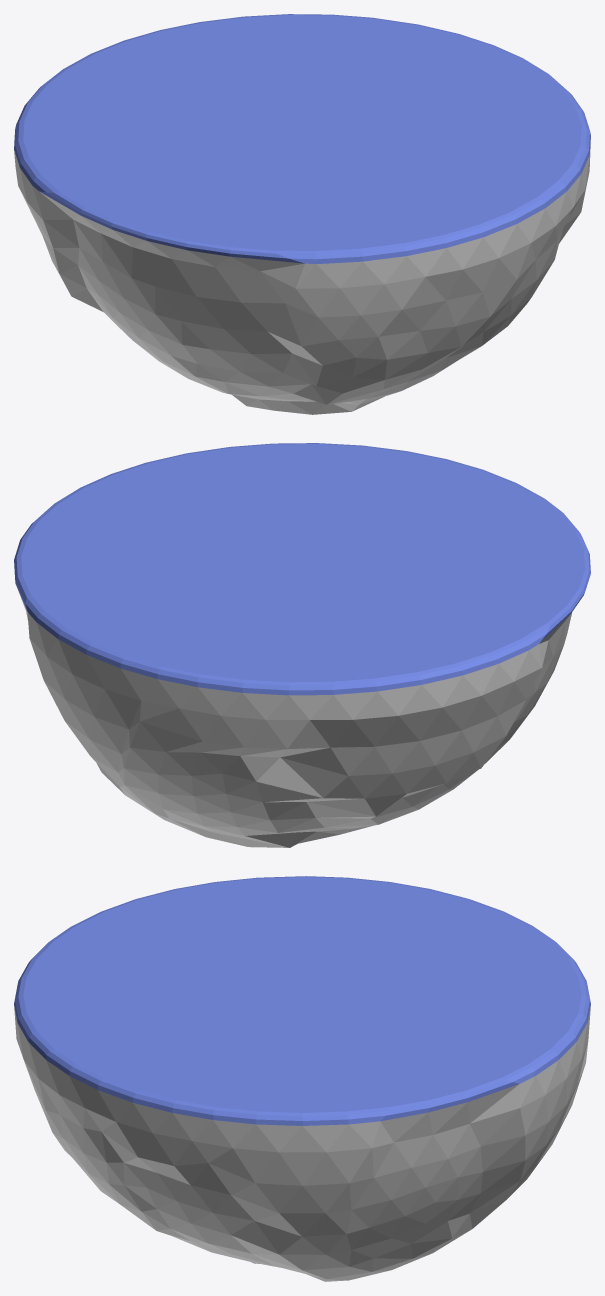
The model's file is Island1.fbx.
3 views of the same model, one above another, from view 1: azimuth 30°, elevation 25°; view 2: azimuth 150°, elevation 25°; view 3: azimuth 270°, elevation 25° (orthographic).
Parts seen in each view (by area): view 1: Island1; view 2: Island1; view 3: Island1.
Boxes of the visible parts, <box> form: Island1: <box>14,14,590,414</box>; Island1: <box>14,443,590,847</box>; Island1: <box>14,876,590,1281</box>.
Size of the model in its own units: 14.9 by 7.34 by 14.95.
